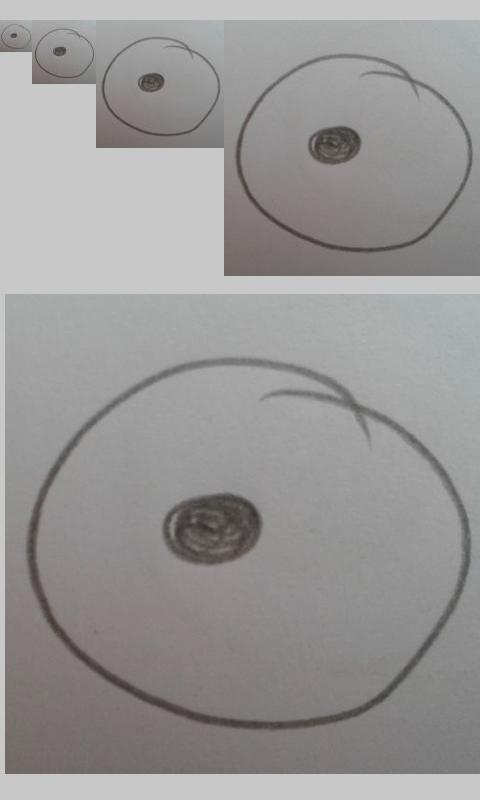radio_button: (23, 353, 473, 733), (235, 52, 473, 253), (101, 36, 221, 137), (34, 28, 96, 79), (1, 23, 32, 50)
